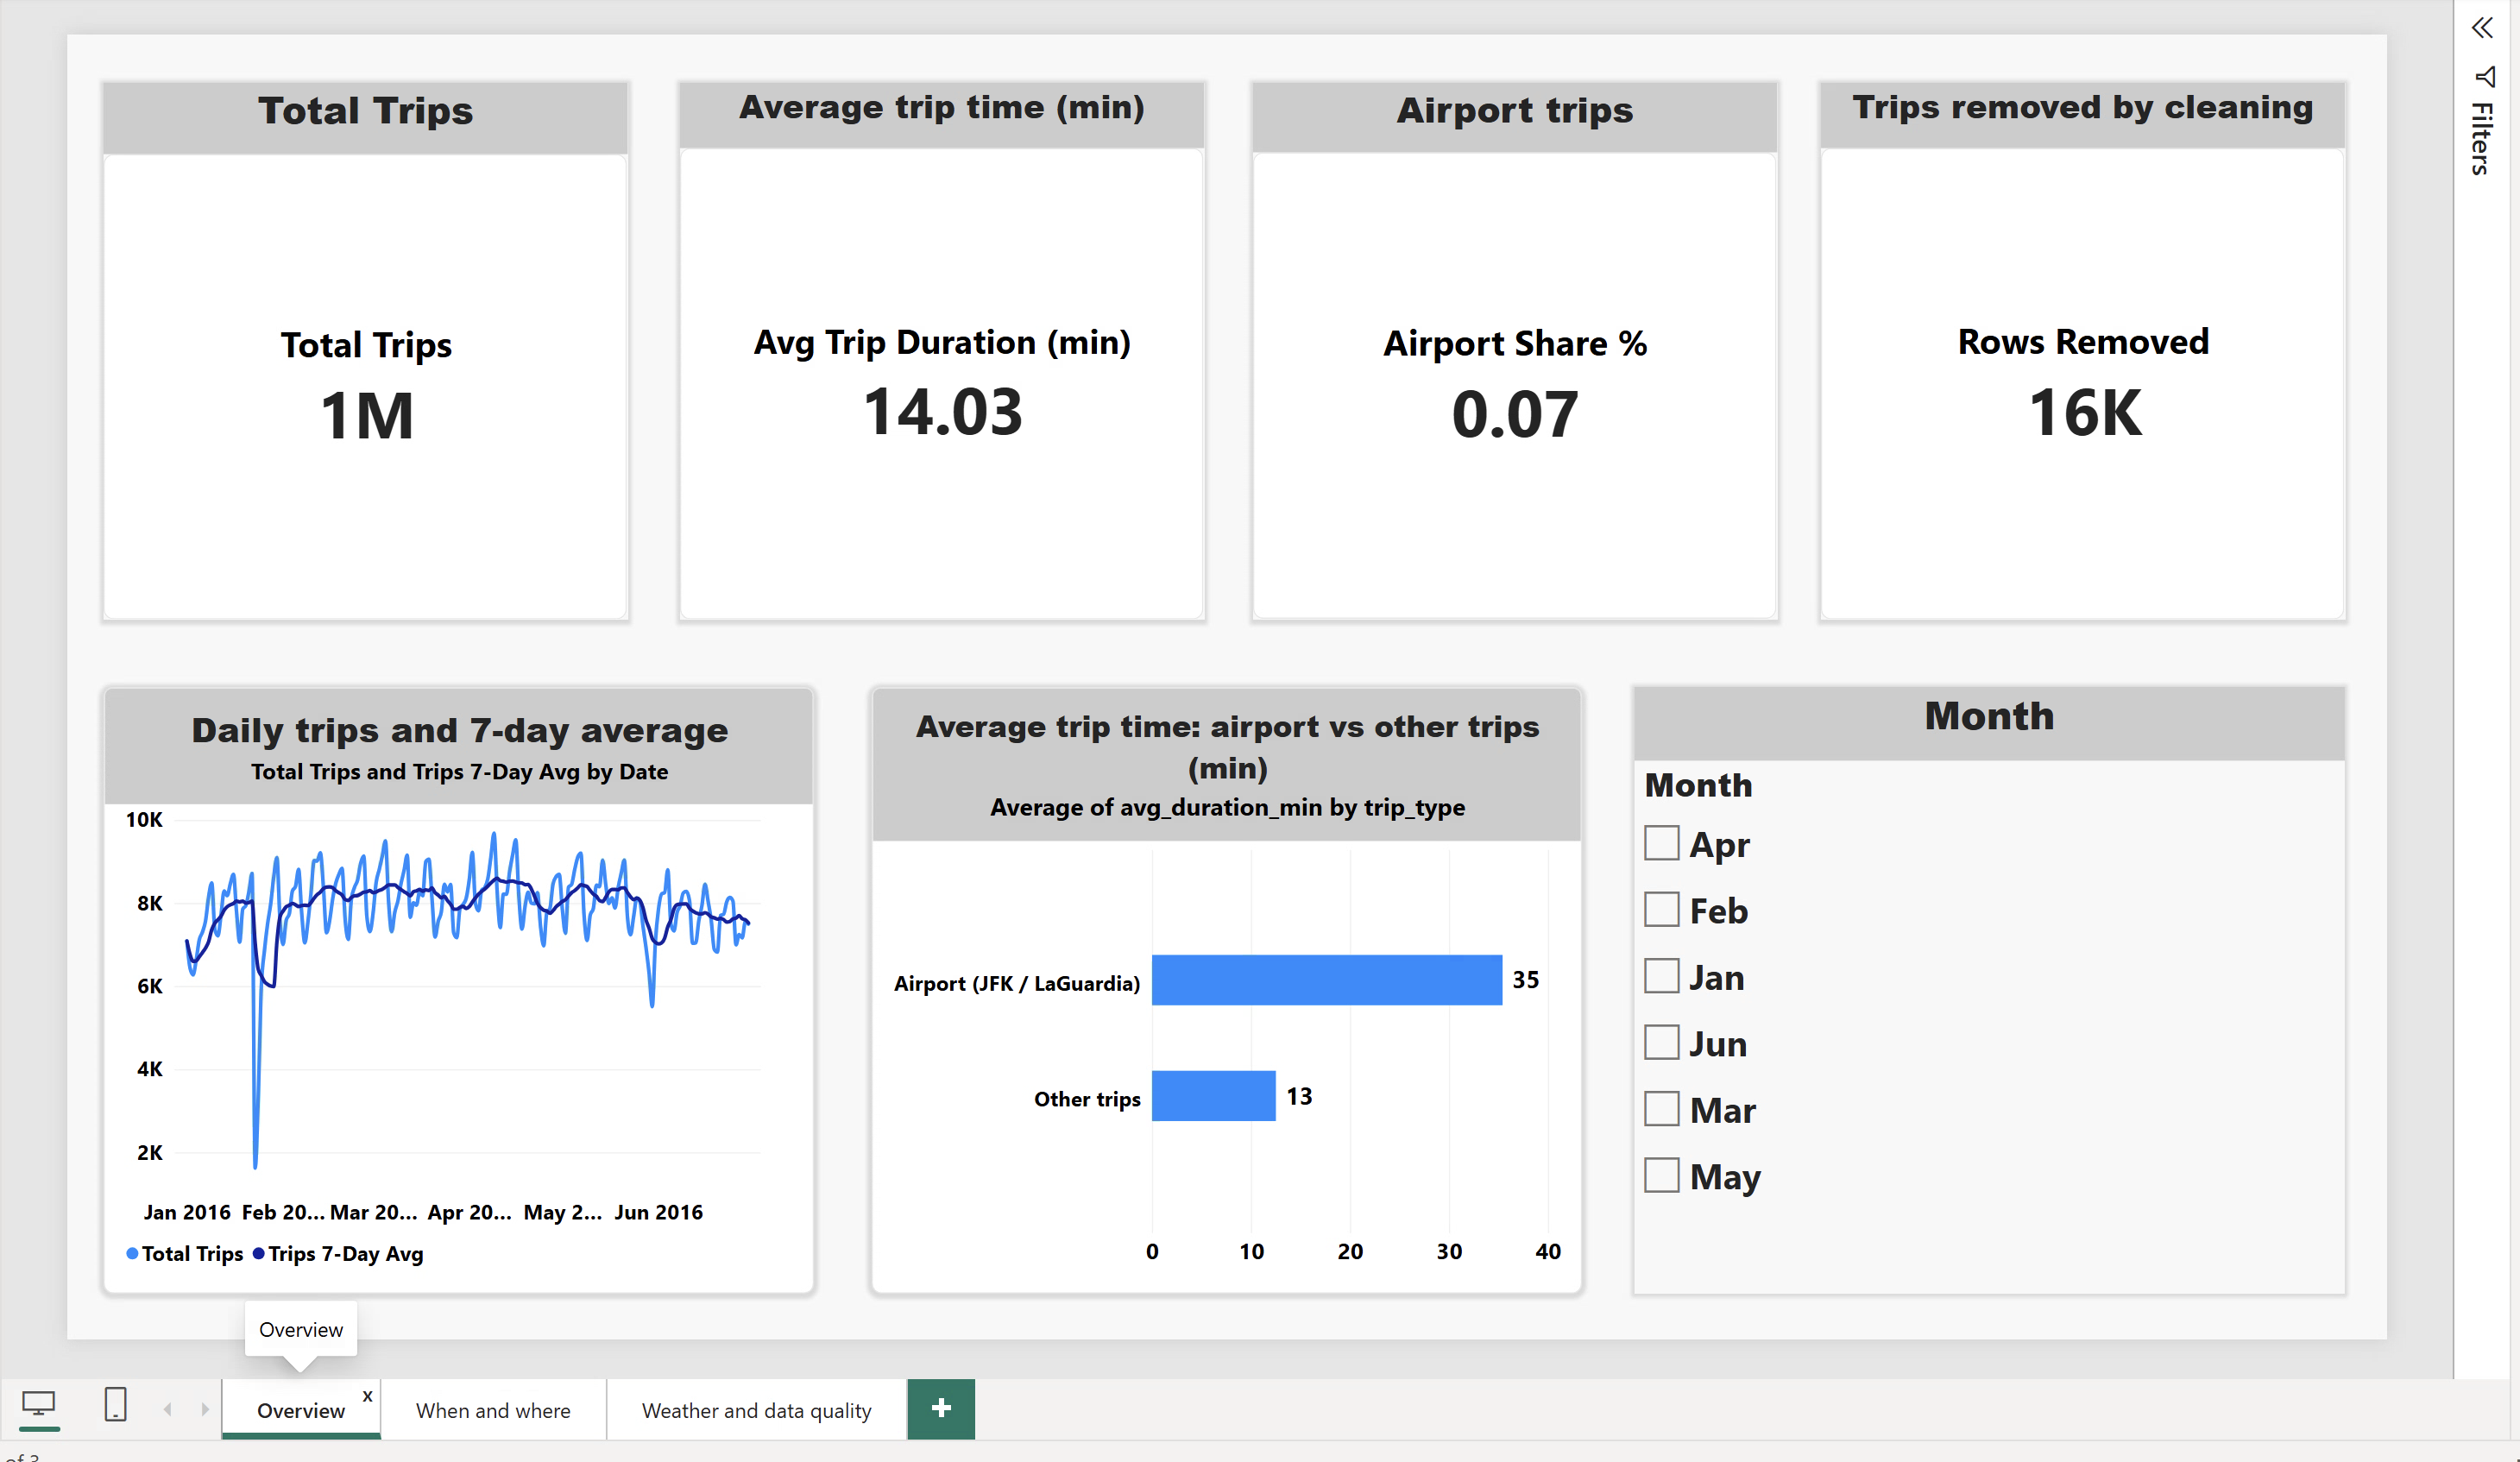

What the dashboard file says about the page in this screenshot:
{"tool":"powerbi","page":{"name":"Overview","canvas":[1920,1080],"ordinal":0},"visuals":[{"type":"cardVisual","title":"Total Trips","fields":{"Data":["daily_kpis.Total Trips"]},"box":[29.5,39.9,434,444.4],"z":0},{"type":"cardVisual","title":"Average trip time (min)","fields":{"Data":["daily_kpis.Avg Trip Duration (min)"]},"box":[506.9,39.9,434,444.4],"z":1},{"type":"cardVisual","title":"Airport trips","fields":{"Data":["daily_kpis.Airport Share %"]},"box":[980.8,39.9,434,444.4],"z":2},{"type":"cardVisual","title":"Trips removed by cleaning","fields":{"Data":["daily_kpis.Rows Removed"]},"box":[1451.3,39.9,434,444.4],"z":3},{"type":"lineChart","title":"Daily trips and 7-day average","fields":{"Category":["Dates.Date"],"Y":["daily_kpis.Total Trips","daily_kpis.Trips 7-Day Avg"]},"box":[30.1,539.5,587.8,501.9],"z":4},{"type":"barChart","title":"Average trip time: airport vs other trips (min)","fields":{"Category":["airport_vs_other.trip_type"],"Y":["Avg(airport_vs_other.avg_duration_min)"]},"box":[666.1,539.5,587.8,501.9],"z":5},{"type":"slicer","title":"Month","fields":{"Values":["Dates.Month"]},"box":[1297.6,539.5,587.8,501.9],"z":6}]}

Visuals, with their boxes on the page's 1920x1080 design canvas (x1, y1, x2, y2). These are canvas units, not pixel positions in the 2520x1462 screenshot, which may show the page scaled, cropped or inside an application window:
"Total Trips" cardVisual: 30,40,464,484
"Average trip time (min)" cardVisual: 507,40,941,484
"Airport trips" cardVisual: 981,40,1415,484
"Trips removed by cleaning" cardVisual: 1451,40,1885,484
"Daily trips and 7-day average" lineChart: 30,540,618,1041
"Average trip time: airport vs other trips (min)" barChart: 666,540,1254,1041
"Month" slicer: 1298,540,1885,1041
